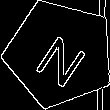N_NE: (28, 22, 91, 86)
